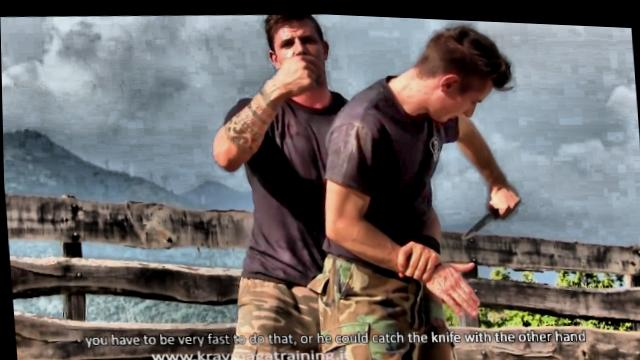knife: (451, 180, 527, 241)
